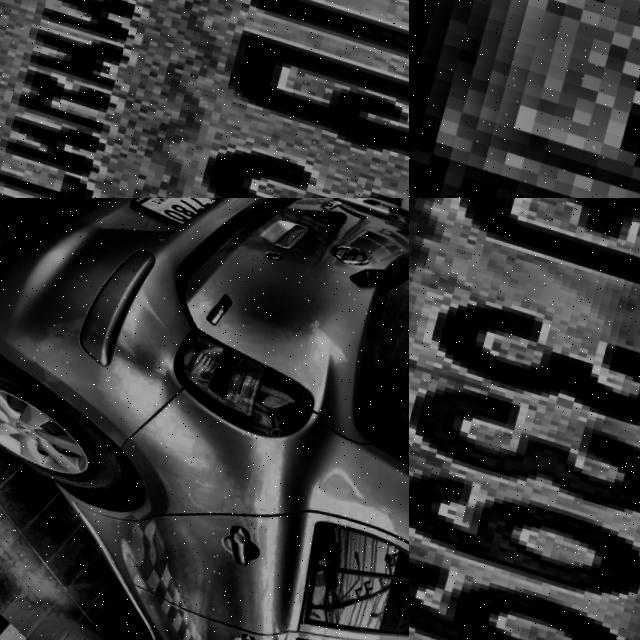license-plate: (409, 198, 640, 640), (0, 0, 409, 198), (409, 0, 640, 198), (109, 198, 255, 253)
